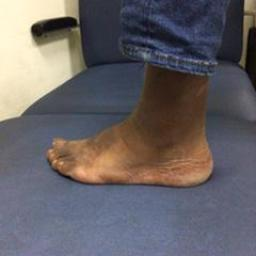Lateral View -Left Foot-: (40, 86, 221, 200)
